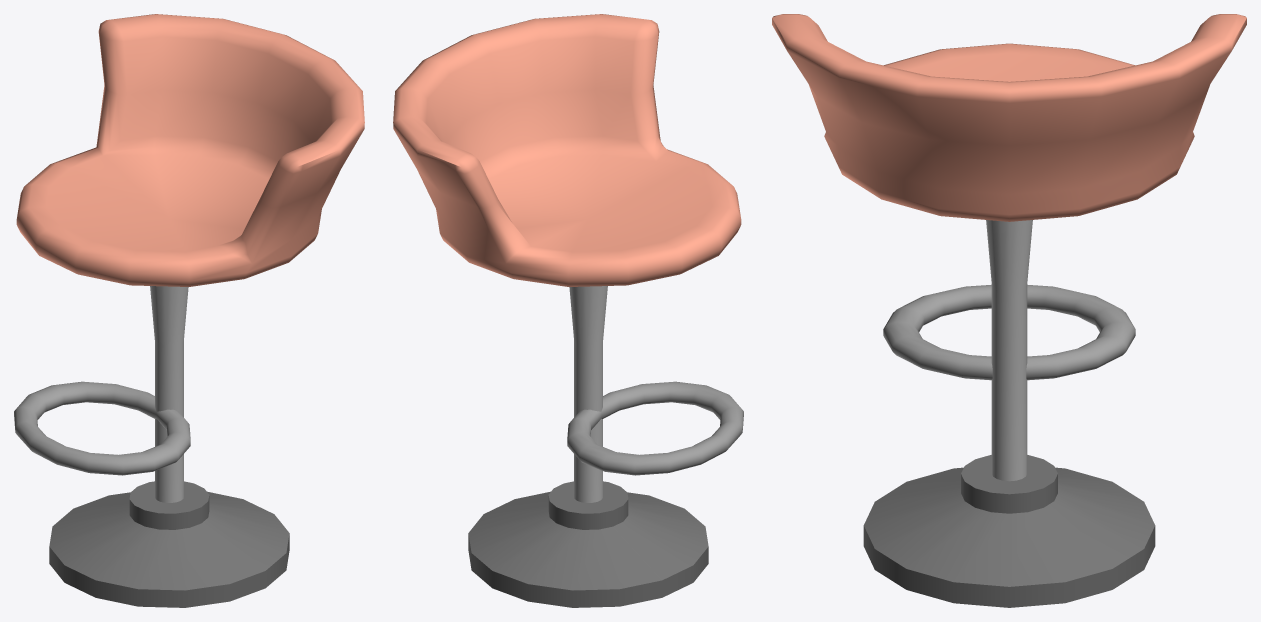
File: Bar Chair01.fbx
3 views of the same model, side by side, from view 1: azimuth 30°, elevation 25°; view 2: azimuth 150°, elevation 25°; view 3: azimuth 270°, elevation 25° (orthographic). The views are drawn at different scales.
Parts seen in each view (by area): view 1: Bar Chair01; view 2: Bar Chair01; view 3: Bar Chair01.
Part boxes in pixels (left/top/right/bottom): Bar Chair01: left=14, top=14, right=364, bottom=607; Bar Chair01: left=393, top=14, right=743, bottom=607; Bar Chair01: left=772, top=14, right=1246, bottom=607.
Size of the model in its own units: 0.3793 by 0.4243 by 0.5445.
